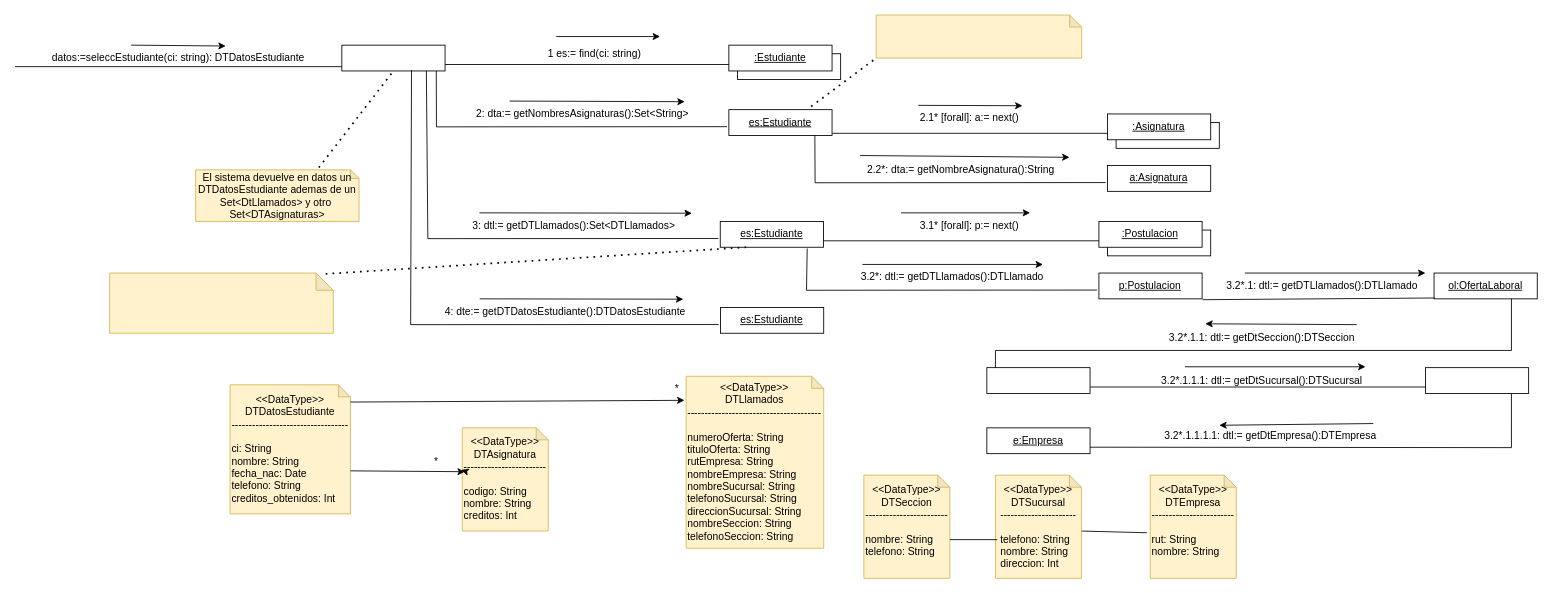
Image size: 1553x593. Some labels were removed from this diagram. The shapes that lost their labels are listed below. From the top down, each one's centre as x and y in pixels, then its label:
the point at 978,36: Estudiante devuelve un set de DTAsignaturas a los que esta linkeado
the point at 393,57: :Sistema
the point at 221,302: Estudiante devuelve un set de DTLlamados a los que esta vinculado el mismo
the point at 1038,380: se:Seccion
the point at 1477,380: su:Sucursal
